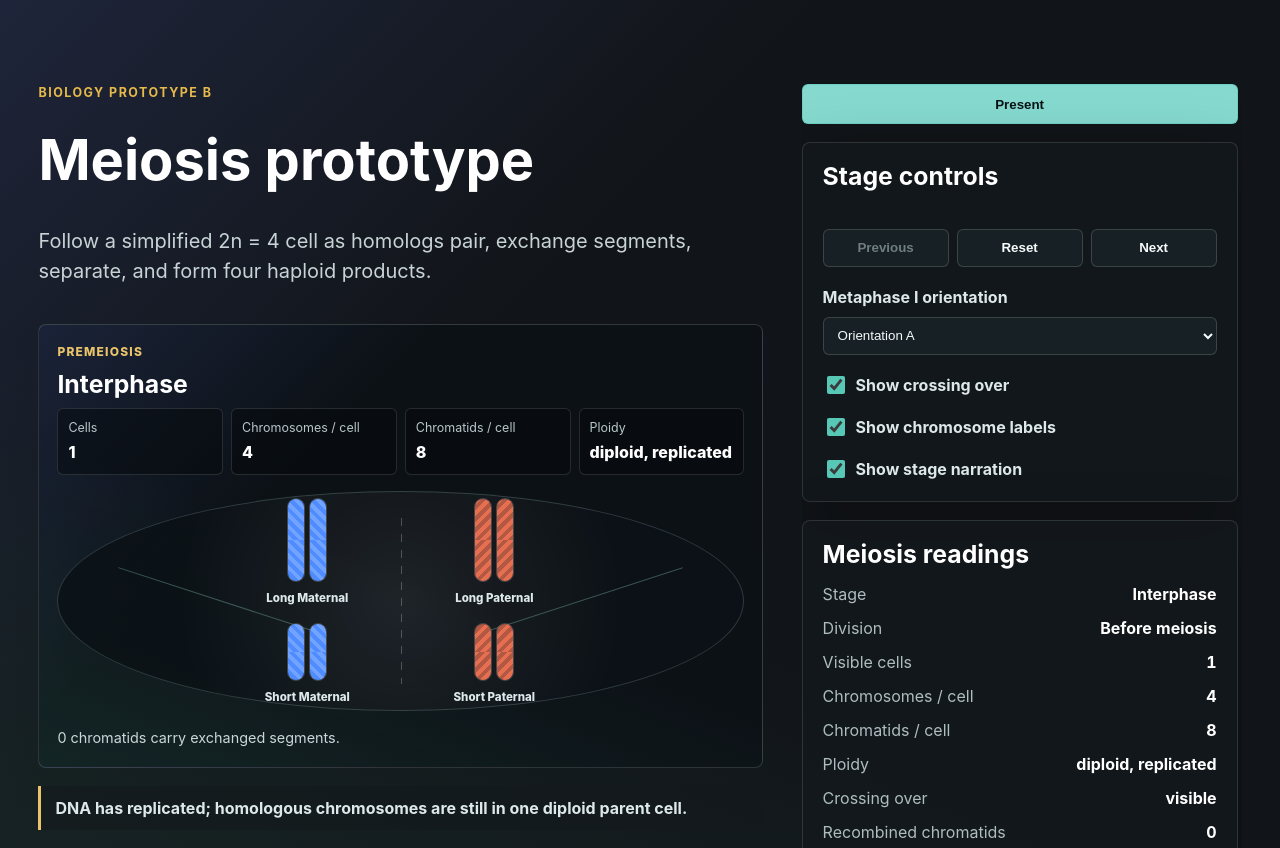
it: MeiosisPrototype › updates crossing-over telemetry and visual labels
What coordinates should you click on to do the following:
click the checkbox labelled "Show crossing over"
I would click on:
 (836, 385)
Its box is [827,376,845,394].
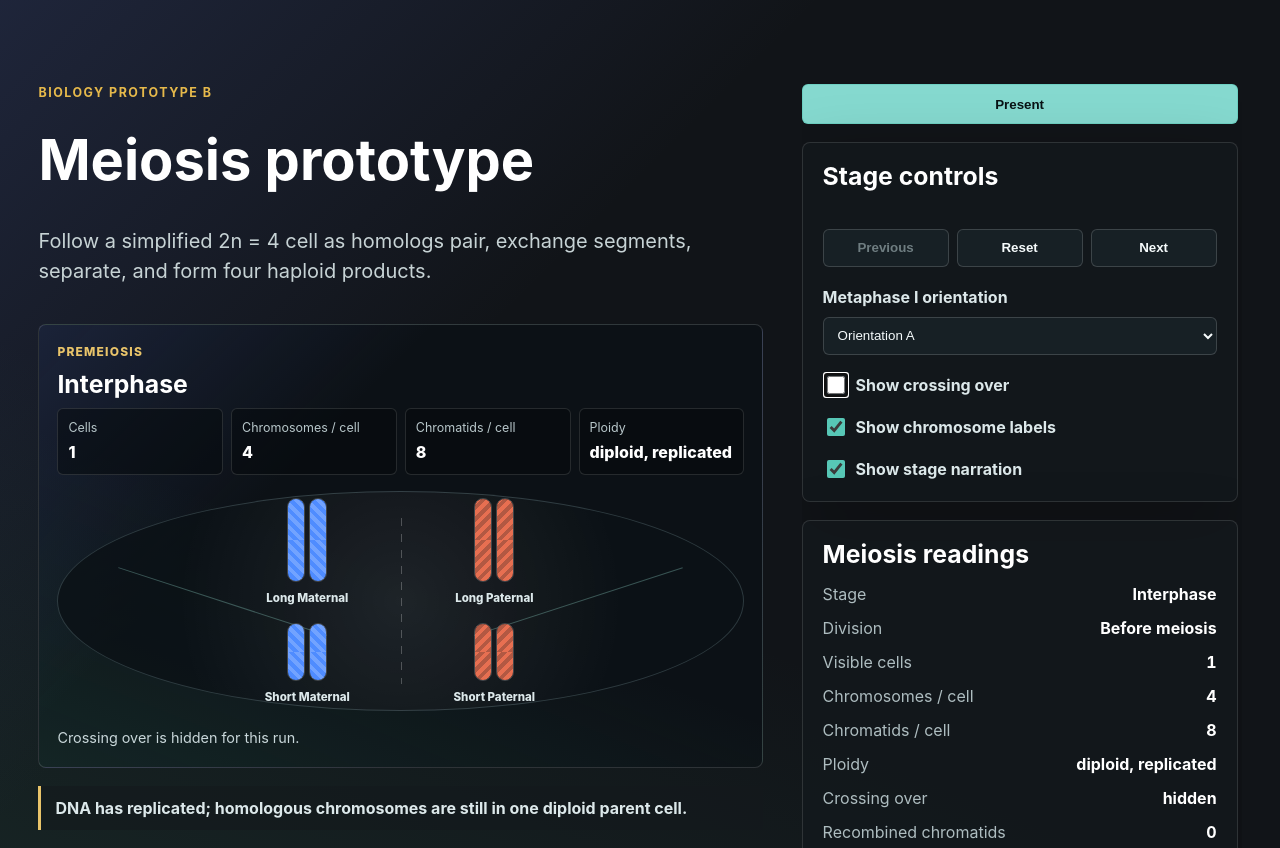
Result: the text "Crossing over is hidden for this run." is shown at [57,729,299,746]
Result: the text "hidden" is shown at [1163,788,1217,808]
